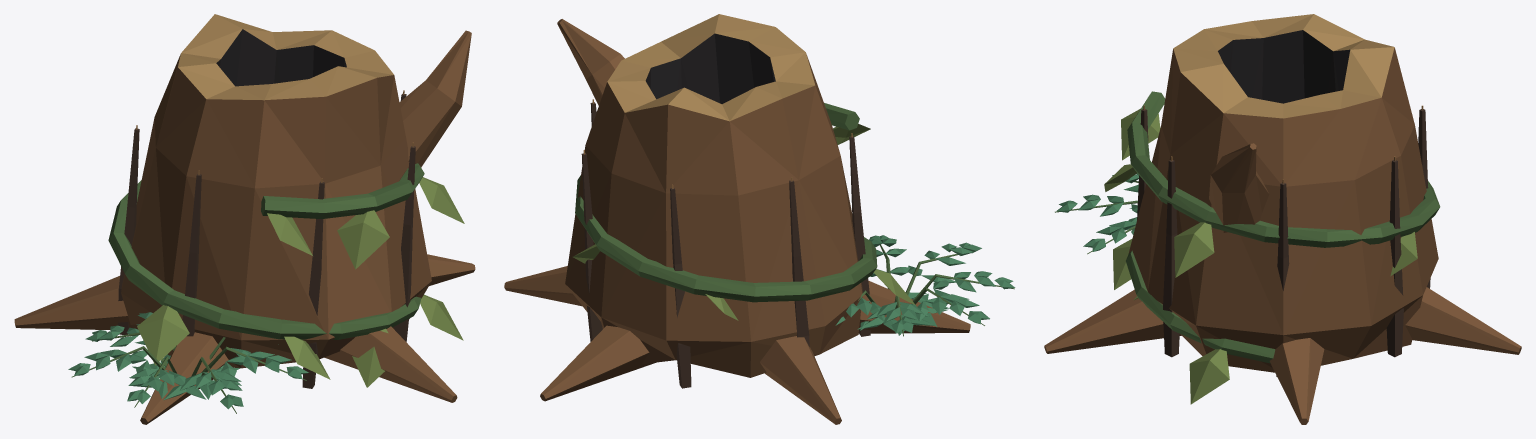
Rendered from hollow_stump.glb.
3 renders of one model, left to right at view 1: azimuth 30°, elevation 25°; view 2: azimuth 150°, elevation 25°; view 3: azimuth 270°, elevation 25°, orthographic. The views are drawn at different scales.
Parts seen in each view (by area): view 1: hollow_stump; view 2: hollow_stump; view 3: hollow_stump.
Boxes of the visible parts, x1,y1,x2,y2 form: hollow_stump: (14,14,475,424); hollow_stump: (504,14,1015,424); hollow_stump: (1044,14,1521,424).
Bounding box in the file's own units: 2.07 × 1.27 × 1.91.
